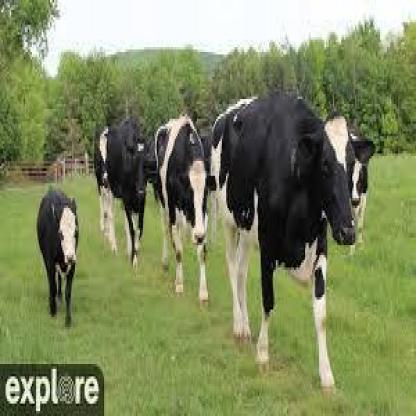cow: (213, 95, 375, 397), (155, 118, 218, 303), (95, 121, 157, 270), (36, 188, 80, 330), (348, 162, 368, 246)
